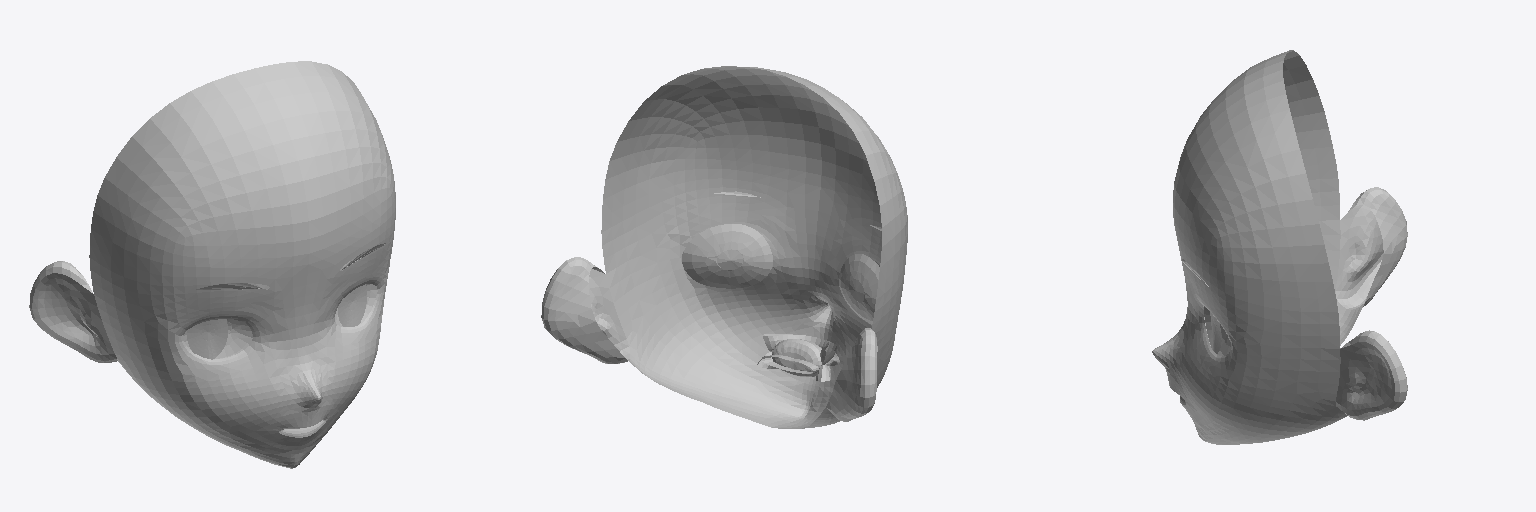
Rendered from eyeLookOutRight.obj.
3 views of the same model, side by side, from view 1: azimuth 30°, elevation 25°; view 2: azimuth 150°, elevation 25°; view 3: azimuth 270°, elevation 25° (orthographic).
Parts seen in each view (by area): view 1: Face; view 2: Face; view 3: Face.
Part boxes in pixels (bbox=[...]): Face: bbox=[29, 61, 395, 468]; Face: bbox=[541, 66, 907, 428]; Face: bbox=[1152, 50, 1407, 444].
Size of the model in its own units: 0.2176 by 0.2333 by 0.1449.